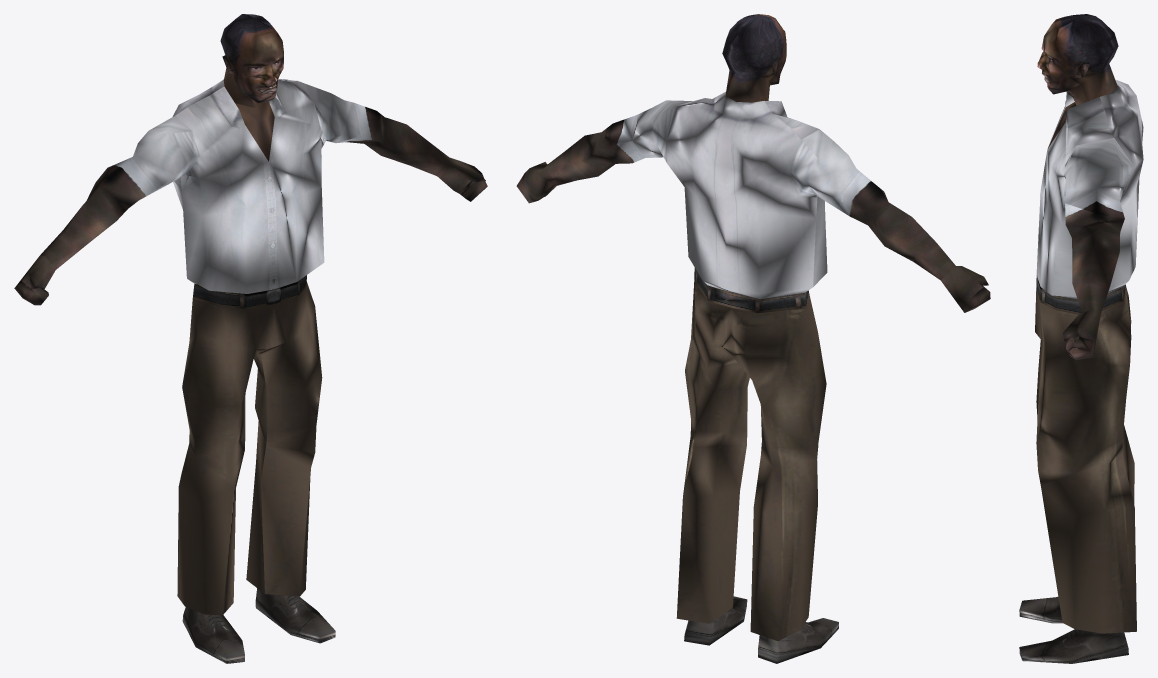
The model's file is ETier1d.glb.
The picture shows the model from 3 angles, left to right: view 1: azimuth 30°, elevation 25°; view 2: azimuth 150°, elevation 25°; view 3: azimuth 270°, elevation 25°; orthographic projection.
Parts seen in each view (by area): view 1: _ETier1d; view 2: _ETier1d; view 3: _ETier1d.
Boxes of the visible parts, bbox=[...] form: _ETier1d: bbox=[14, 14, 487, 663]; _ETier1d: bbox=[516, 14, 990, 663]; _ETier1d: bbox=[1019, 14, 1143, 663].
Size of the model in its own units: 1.56 by 1.97 by 0.3584.
1 material, 1 textured.
